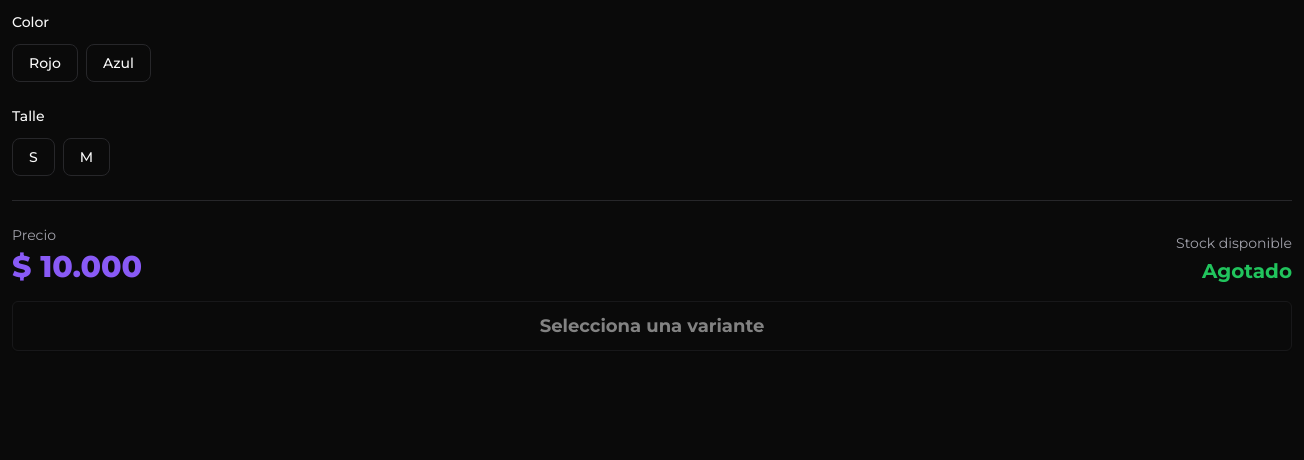
Test: ProductVariantSelector › option selection › should change selected option when clicked
Click the button "Azul" at (118, 63), box [86,44,151,82]
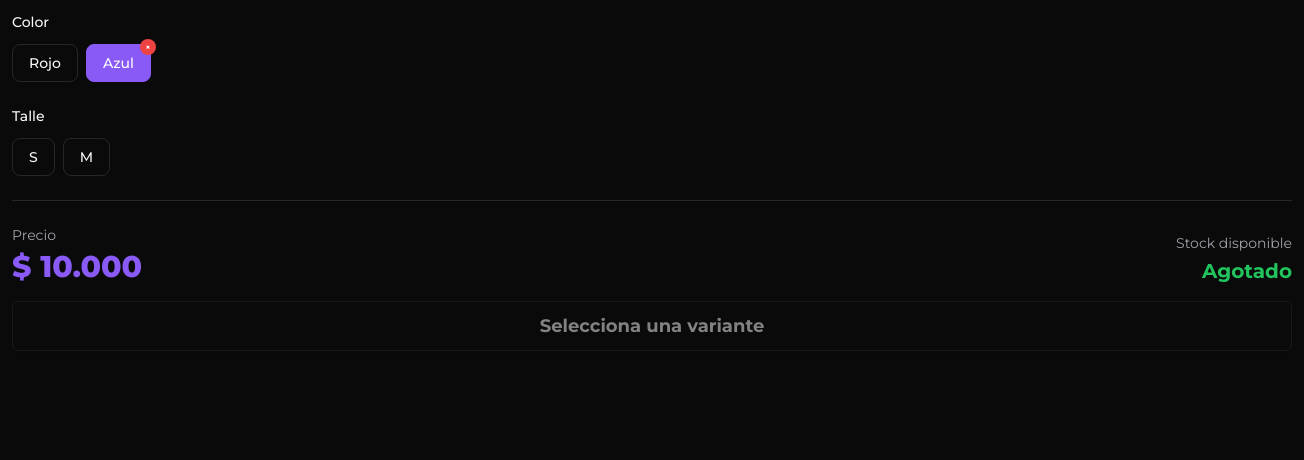
Click the button "M" at (86, 157), box [63,138,110,176]
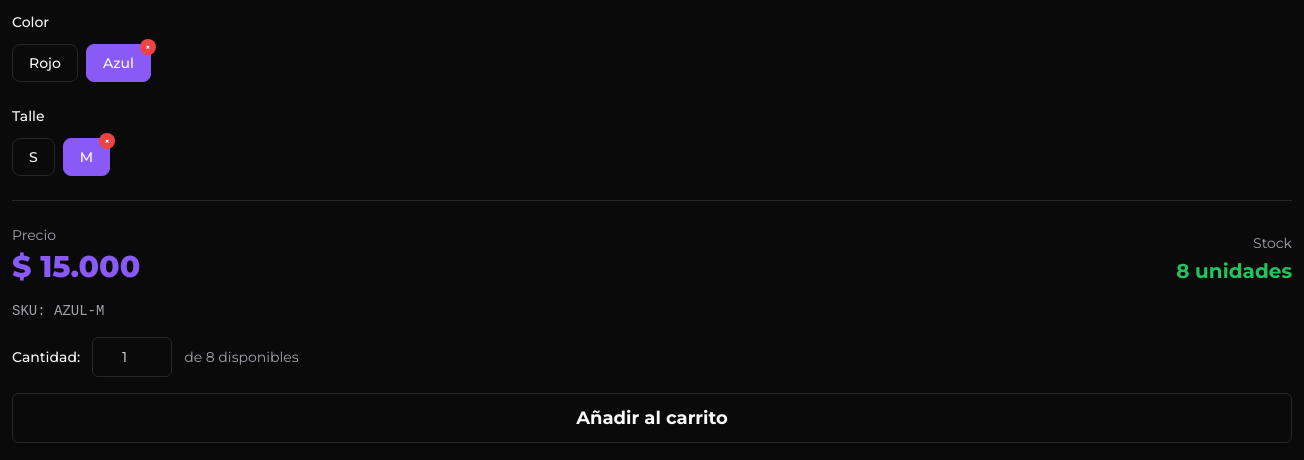
Expected: the text "SKU: AZUL-M" is shown, [12,303,104,319]
